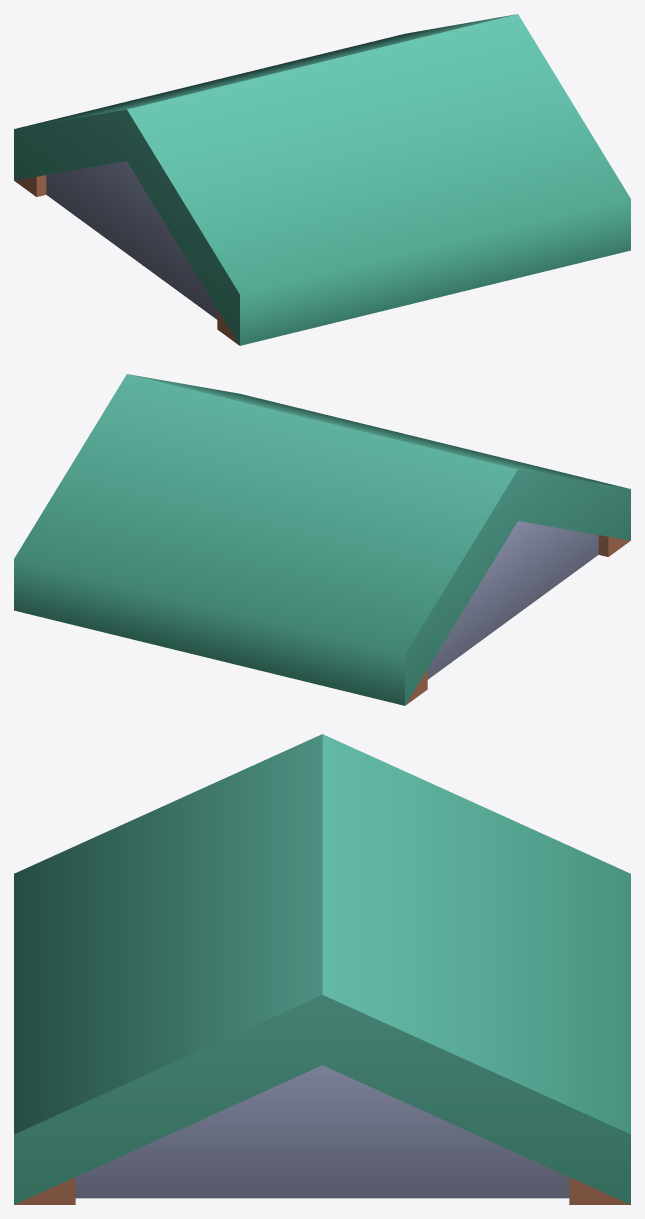
File: roof-kn-roof-gable-top.glb
3 renders of one model, top to bottom at view 1: azimuth 30°, elevation 25°; view 2: azimuth 150°, elevation 25°; view 3: azimuth 270°, elevation 25°, orthographic. The views are drawn at different scales.
Visible parts, largest first — view 1: roof-gable-top; view 2: roof-gable-top; view 3: roof-gable-top.
Part boxes in pixels (x1=…): roof-gable-top: x1=14, y1=14, x2=630, y2=345; roof-gable-top: x1=14, y1=374, x2=630, y2=705; roof-gable-top: x1=14, y1=734, x2=630, y2=1204.
Bounding box in the file's own units: 3 × 1.13 × 3.
1 material, 1 textured.
